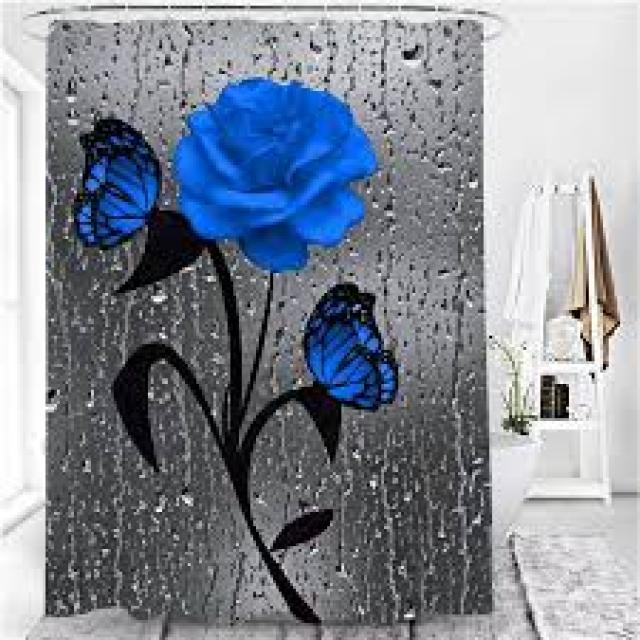raindrop: (400, 36, 433, 72), (41, 382, 65, 420), (332, 556, 362, 586), (394, 595, 425, 622), (180, 488, 206, 518), (153, 488, 174, 521), (68, 76, 88, 108)
